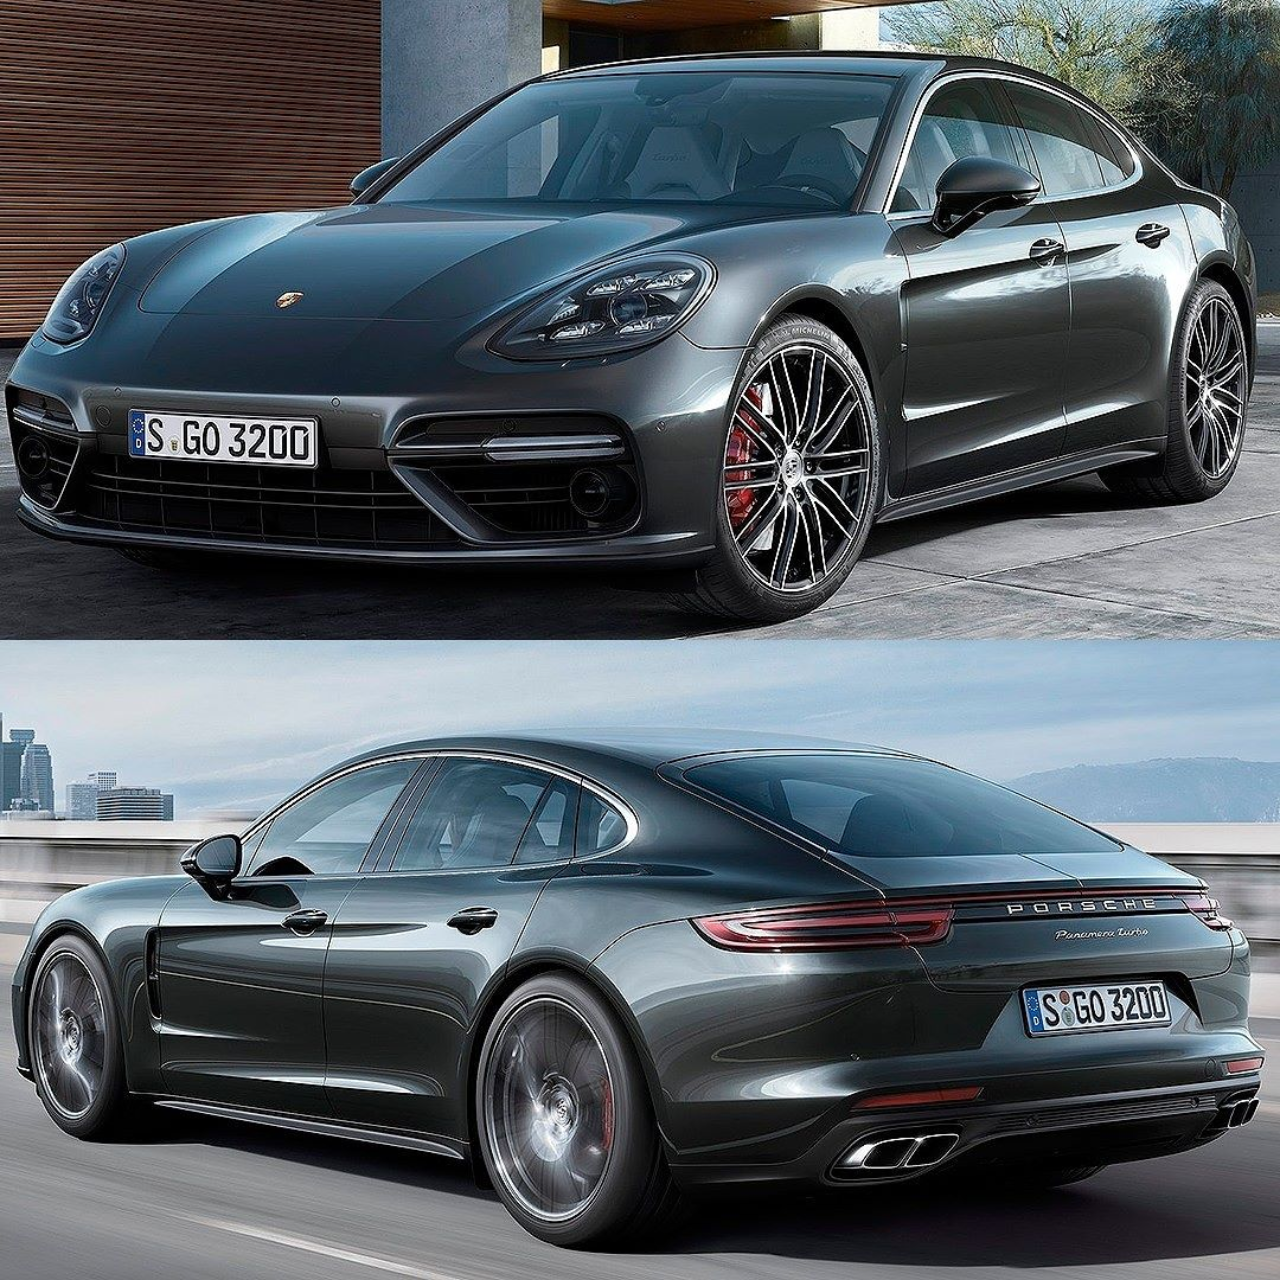LP: (117, 400, 326, 474), (1007, 972, 1190, 1034)
